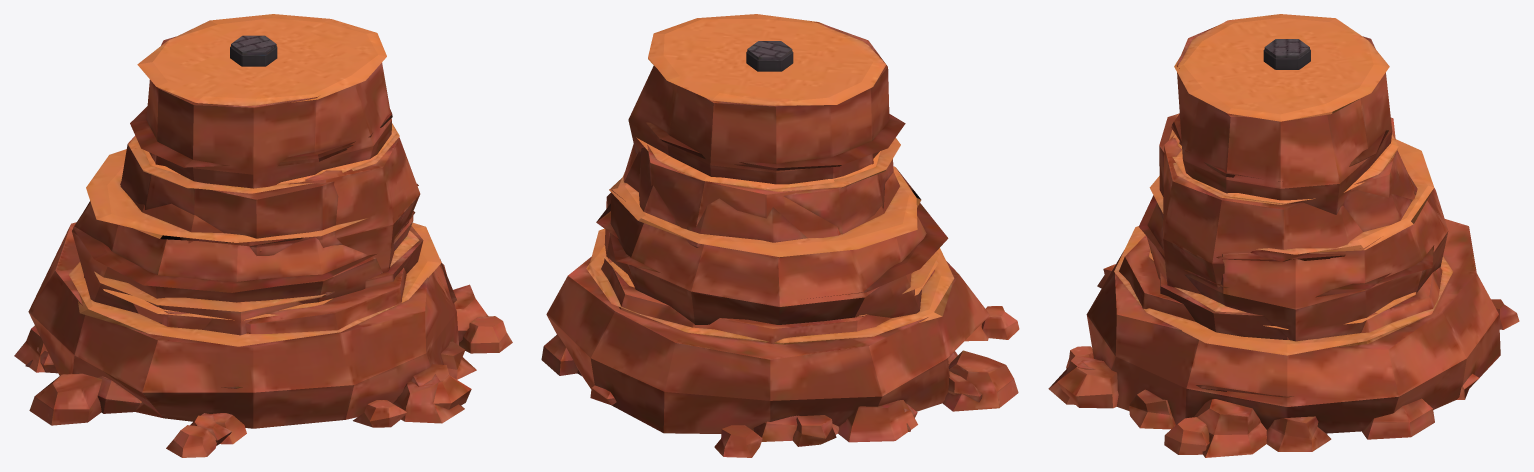
Rendered from terrain.glb.
The picture shows the model from 3 angles, left to right: view 1: azimuth 30°, elevation 25°; view 2: azimuth 150°, elevation 25°; view 3: azimuth 270°, elevation 25°; orthographic projection.
Parts seen in each view (by area): view 1: mesa_1, mesa_2, mesa_0, basalt_2; view 2: mesa_1, mesa_0, mesa_2, basalt_2; view 3: mesa_1, mesa_0, mesa_2, basalt_2.
Boxes of the visible parts, left/top/right/bottom form: mesa_1: left=14, top=14, right=476, bottom=444; mesa_2: left=25, top=123, right=464, bottom=445; mesa_0: left=84, top=124, right=512, bottom=457; basalt_2: left=230, top=35, right=277, bottom=66; mesa_1: left=546, top=14, right=989, bottom=446; mesa_0: left=577, top=137, right=1019, bottom=457; mesa_2: left=541, top=138, right=1018, bottom=434; basalt_2: left=746, top=41, right=793, bottom=71; mesa_1: left=1057, top=14, right=1500, bottom=451; mesa_0: left=1066, top=117, right=1519, bottom=457; mesa_2: left=1048, top=113, right=1434, bottom=439; basalt_2: left=1263, top=39, right=1310, bottom=69.
Bounding box in the file's own units: 11.55 × 7.77 × 10.77.
Materials: 33 (33 with a texture image).
